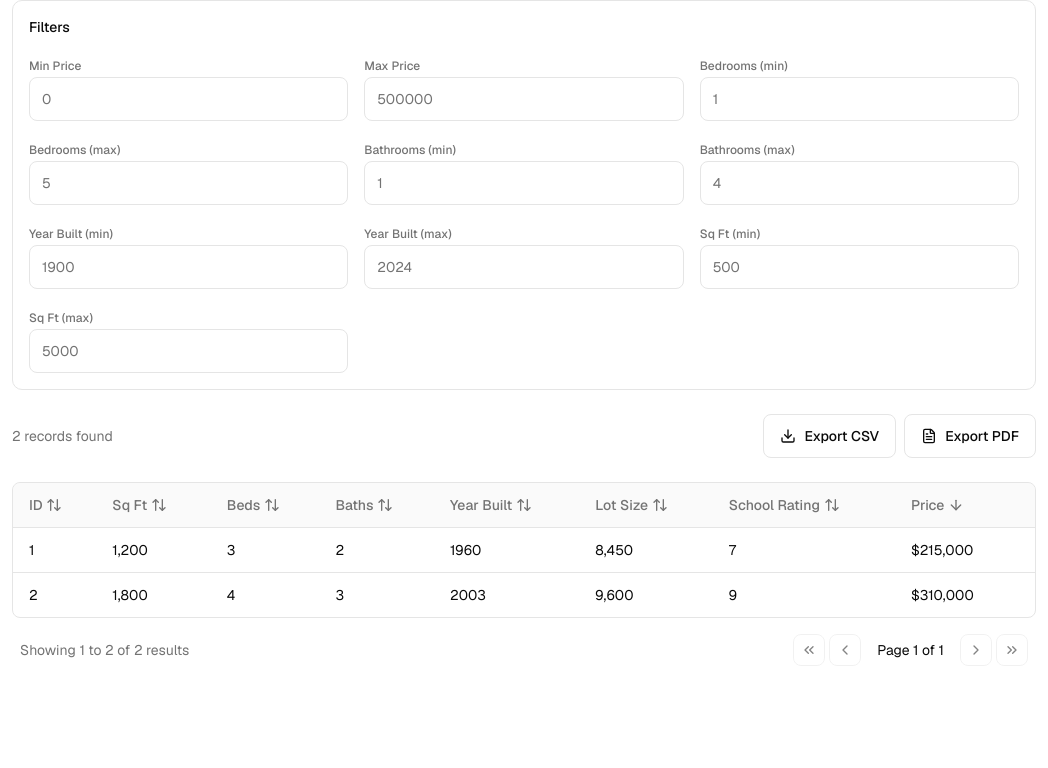
Test case: MarketTable › clears filters when clear all is clicked
Type "100000" into the number field labelled "Min Price" at (189, 99), box x1=29 y1=77 x2=348 y2=121
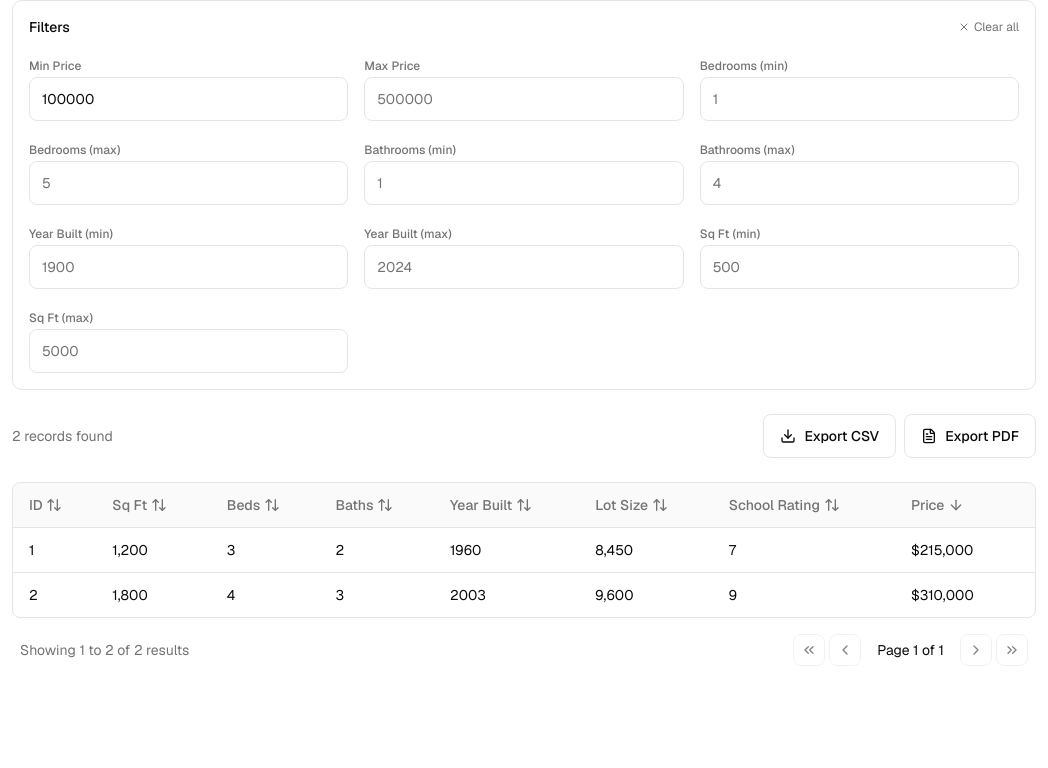
Click the button with aria-label "Clear all filters" at (988, 27), box x1=958 y1=19 x2=1019 y2=35
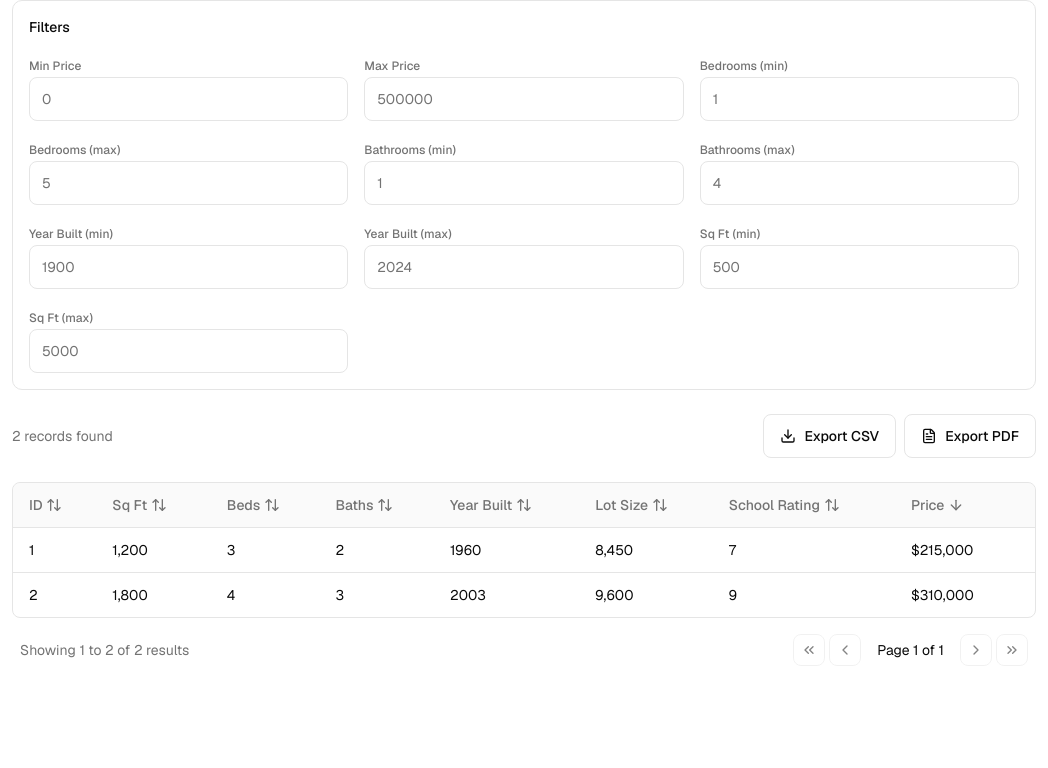
Now the number field labelled "Min Price" is not empty, box x1=29 y1=77 x2=348 y2=121
